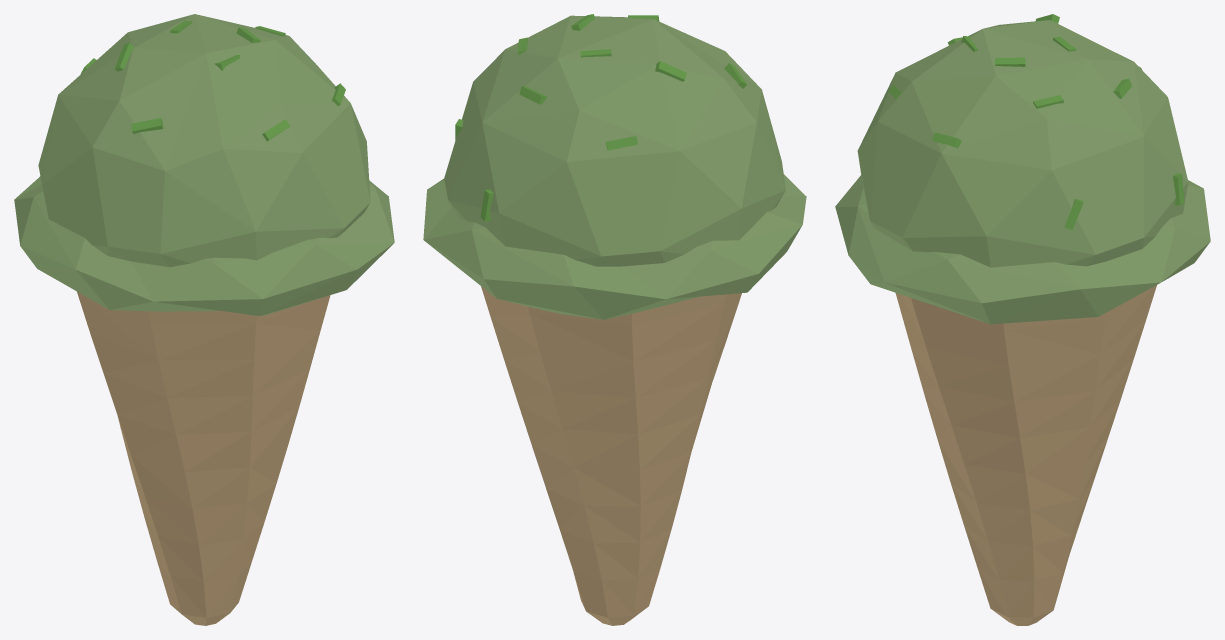
Rendered from IceCream_1.glb.
3 views of the same model, side by side, from view 1: azimuth 30°, elevation 25°; view 2: azimuth 150°, elevation 25°; view 3: azimuth 270°, elevation 25° (orthographic).
Parts seen in each view (by area): view 1: IceCream_1; view 2: IceCream_1; view 3: IceCream_1.
Part boxes in pixels (x1,y1,x2,y2): IceCream_1: [14, 14, 394, 625]; IceCream_1: [423, 14, 806, 625]; IceCream_1: [835, 14, 1210, 625].
Size of the model in its own units: 0.7006 by 1.2 by 0.7006.
